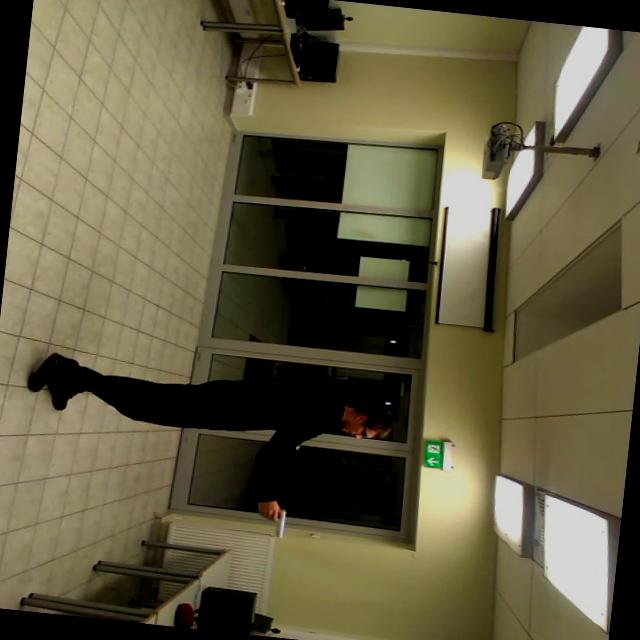handgun: (245, 502, 296, 544)
